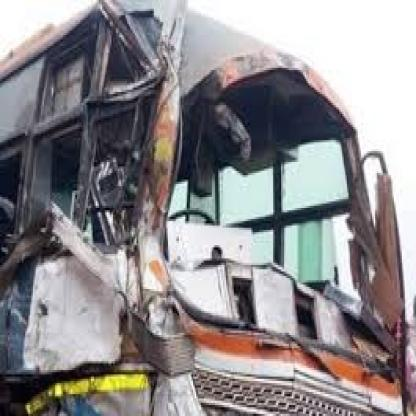accident: (0, 1, 404, 416)
